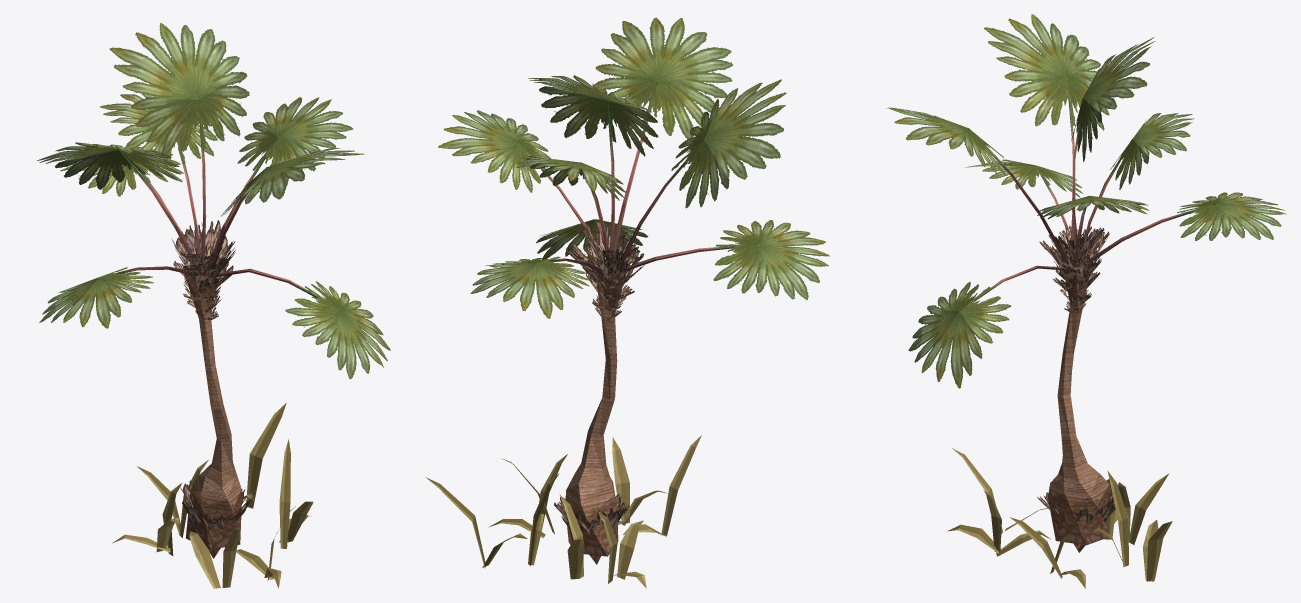
File: C3SNFANTREE.obj
The picture shows the model from 3 angles, left to right: view 1: azimuth 30°, elevation 25°; view 2: azimuth 150°, elevation 25°; view 3: azimuth 270°, elevation 25°; orthographic projection. The views are drawn at different scales.
Visible parts, largest first — view 1: Node 0; view 2: Node 0; view 3: Node 0.
Boxes of the visible parts, x1,y1,x2,y2 form: Node 0: (37, 23, 390, 588); Node 0: (425, 17, 829, 588); Node 0: (887, 14, 1286, 588).
Size of the model in its own units: 6.84 by 9.64 by 7.41.
1 material, 1 textured.
